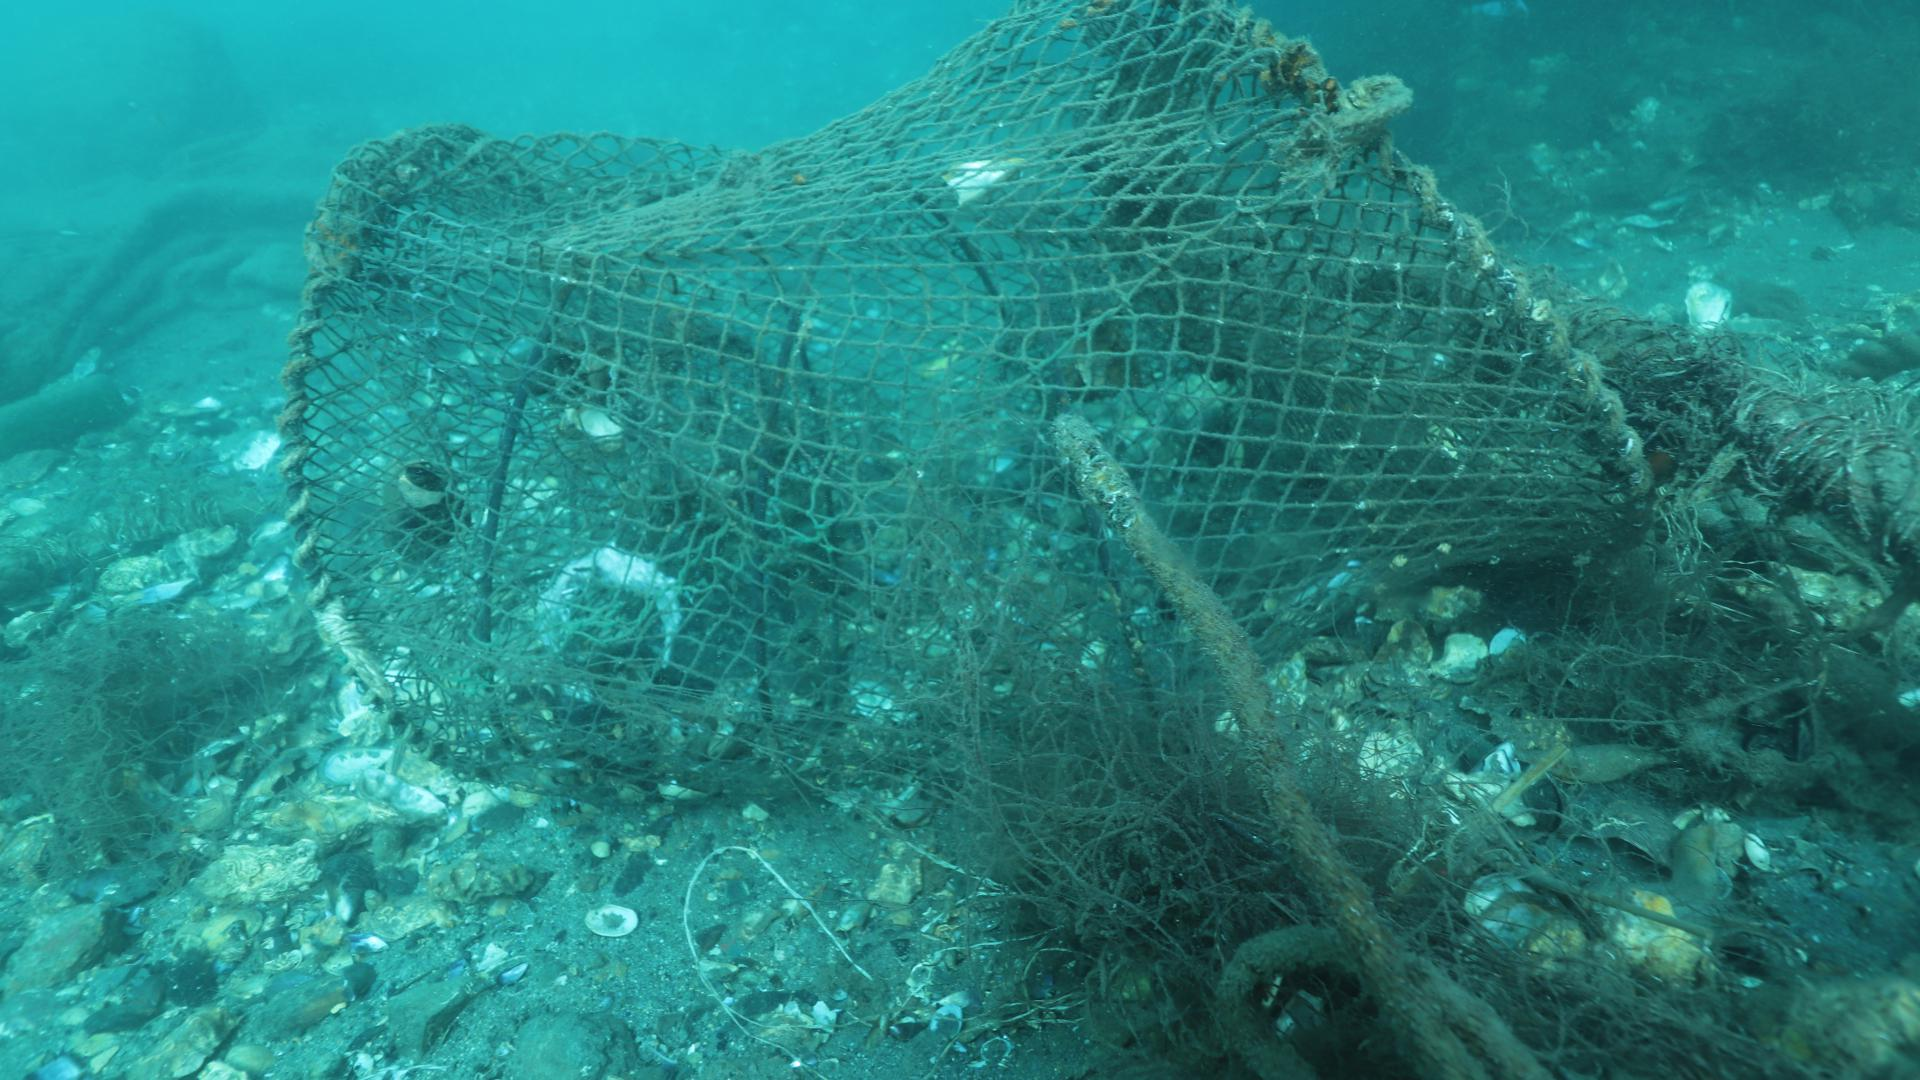spring fish trap: (280, 0, 1658, 793)
